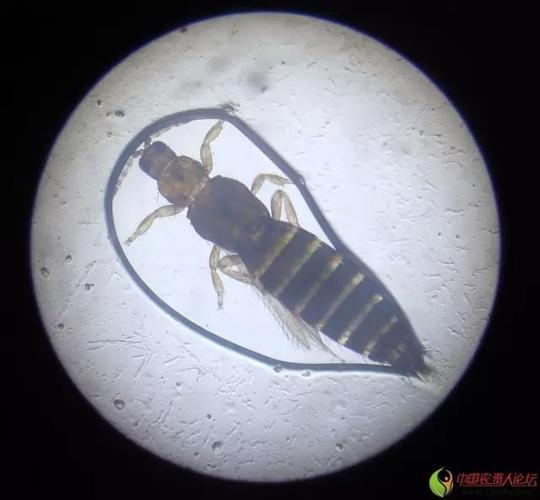Thripidae: (107, 107, 445, 387)
